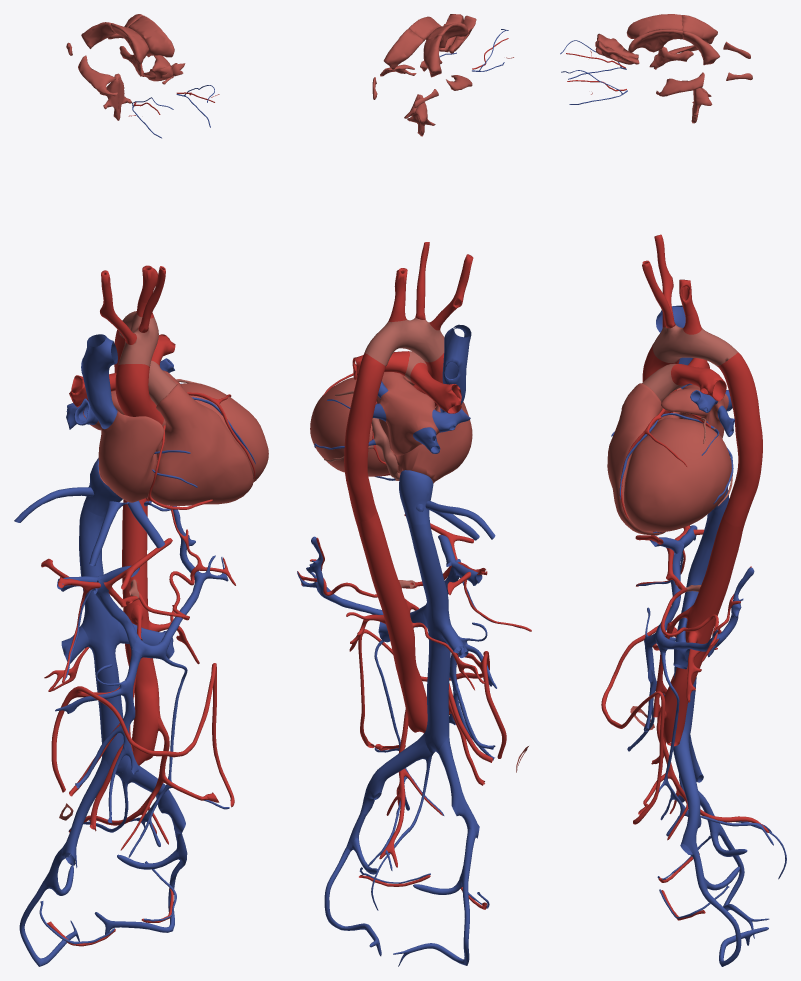
File: adult_female.cardiovascular.LOD1.glb
The picture shows the model from 3 angles, left to right: view 1: azimuth 30°, elevation 25°; view 2: azimuth 150°, elevation 25°; view 3: azimuth 270°, elevation 25°; orthographic projection. The views are drawn at different scales.
Parts seen in each view (by area): view 1: ADULT.FEMALE.CARDIOVASCULAR.RIGHT_VENTRICLE, ADULT.FEMALE.CARDIOVASCULAR.INFERIOR_VENA_CAVA_B, ADULT.FEMALE.CARDIOVASCULAR.DESCENDING_AORTA_B, ADULT.FEMALE.CARDIOVASCULAR.RIGHT_CARDIAC_ATRIUM, ADULT.FEMALE.CARDIOVASCULAR.SUPERIOR_VENA_CAVA, ADULT.FEMALE.CARDIOVASCULAR.LEFT_VENTRICLE, ADULT.FEMALE.CARDIOVASCULAR.MARGINAL_ARTERY_OF_DRUMMOND, ADULT.FEMALE.CARDIOVASCULAR.ASCENDING_AORTA, ADULT.FEMALE.CARDIOVASCULAR.SPLENIC_VEIN, ADULT.FEMALE.CARDIOVASCULAR.ANTERIOR_HORN_OF_LATERAL_VENTRIC (×2), ADULT.FEMALE.CARDIOVASCULAR.AORTIC_ARCH, ADULT.FEMALE.CARDIOVASCULAR.COMMON_ILIAC_VEIN.L (+16 smaller); view 2: ADULT.FEMALE.CARDIOVASCULAR.DESCENDING_AORTA_B, ADULT.FEMALE.CARDIOVASCULAR.INFERIOR_VENA_CAVA_B, ADULT.FEMALE.CARDIOVASCULAR.DESCENDING_AORTA_A, ADULT.FEMALE.CARDIOVASCULAR.LEFT_CARDIAC_ATRIUM, ADULT.FEMALE.CARDIOVASCULAR.LEFT_VENTRICLE, ADULT.FEMALE.CARDIOVASCULAR.RIGHT_CARDIAC_ATRIUM, ADULT.FEMALE.CARDIOVASCULAR.AORTIC_ARCH, ADULT.FEMALE.CARDIOVASCULAR.INFERIOR_VENA_CAVA_A, ADULT.FEMALE.CARDIOVASCULAR.COMMON_ILIAC_VEIN.L, ADULT.FEMALE.CARDIOVASCULAR.SUPERIOR_VENA_CAVA, ADULT.FEMALE.CARDIOVASCULAR.MARGINAL_ARTERY_OF_DRUMMOND, ADULT.FEMALE.CARDIOVASCULAR.PULMONARY_ARTERY.R (+11 smaller); view 3: ADULT.FEMALE.CARDIOVASCULAR.LEFT_VENTRICLE, ADULT.FEMALE.CARDIOVASCULAR.DESCENDING_AORTA_B, ADULT.FEMALE.CARDIOVASCULAR.DESCENDING_AORTA_A, ADULT.FEMALE.CARDIOVASCULAR.RIGHT_VENTRICLE, ADULT.FEMALE.CARDIOVASCULAR.AORTIC_ARCH, ADULT.FEMALE.CARDIOVASCULAR.INFERIOR_VENA_CAVA_B, ADULT.FEMALE.CARDIOVASCULAR.COMMON_ILIAC_VEIN.L, ADULT.FEMALE.CARDIOVASCULAR.ANTERIOR_HORN_OF_LATERAL_VENTRIC (×2), ADULT.FEMALE.CARDIOVASCULAR.MARGINAL_ARTERY_OF_DRUMMOND, ADULT.FEMALE.CARDIOVASCULAR.SPLENIC_VEIN, ADULT.FEMALE.CARDIOVASCULAR.LEFT_CARDIAC_ATRIUM, ADULT.FEMALE.CARDIOVASCULAR.PULMONARY_ARTERY.L (+13 smaller).
Part boxes in pixels (x1,y1,x2,y2): ADULT.FEMALE.CARDIOVASCULAR.RIGHT_VENTRICLE: [147, 384, 253, 505]; ADULT.FEMALE.CARDIOVASCULAR.INFERIOR_VENA_CAVA_B: [79, 504, 128, 775]; ADULT.FEMALE.CARDIOVASCULAR.DESCENDING_AORTA_B: [122, 498, 160, 765]; ADULT.FEMALE.CARDIOVASCULAR.RIGHT_CARDIAC_ATRIUM: [98, 410, 164, 502]; ADULT.FEMALE.CARDIOVASCULAR.SUPERIOR_VENA_CAVA: [81, 334, 117, 429]; ADULT.FEMALE.CARDIOVASCULAR.LEFT_VENTRICLE: [181, 383, 268, 482]; ADULT.FEMALE.CARDIOVASCULAR.MARGINAL_ARTERY_OF_DRUMMOND: [51, 663, 234, 807]; ADULT.FEMALE.CARDIOVASCULAR.ASCENDING_AORTA: [115, 364, 163, 424]; ADULT.FEMALE.CARDIOVASCULAR.SPLENIC_VEIN: [132, 506, 228, 659]; ADULT.FEMALE.CARDIOVASCULAR.ANTERIOR_HORN_OF_LATERAL_VENTRIC (×2): [110, 15, 174, 64]; ADULT.FEMALE.CARDIOVASCULAR.AORTIC_ARCH: [118, 311, 158, 366]; ADULT.FEMALE.CARDIOVASCULAR.COMMON_ILIAC_VEIN.L: [118, 757, 185, 834]; ADULT.FEMALE.CARDIOVASCULAR.DESCENDING_AORTA_B: [355, 510, 427, 732]; ADULT.FEMALE.CARDIOVASCULAR.INFERIOR_VENA_CAVA_B: [408, 523, 451, 753]; ADULT.FEMALE.CARDIOVASCULAR.DESCENDING_AORTA_A: [344, 352, 385, 521]; ADULT.FEMALE.CARDIOVASCULAR.LEFT_CARDIAC_ATRIUM: [376, 372, 439, 455]; ADULT.FEMALE.CARDIOVASCULAR.LEFT_VENTRICLE: [310, 377, 394, 476]; ADULT.FEMALE.CARDIOVASCULAR.RIGHT_CARDIAC_ATRIUM: [394, 402, 472, 483]; ADULT.FEMALE.CARDIOVASCULAR.AORTIC_ARCH: [364, 317, 444, 366]; ADULT.FEMALE.CARDIOVASCULAR.INFERIOR_VENA_CAVA_A: [399, 470, 433, 524]; ADULT.FEMALE.CARDIOVASCULAR.COMMON_ILIAC_VEIN.L: [360, 732, 430, 814]; ADULT.FEMALE.CARDIOVASCULAR.SUPERIOR_VENA_CAVA: [440, 324, 471, 412]; ADULT.FEMALE.CARDIOVASCULAR.MARGINAL_ARTERY_OF_DRUMMOND: [358, 629, 506, 758]; ADULT.FEMALE.CARDIOVASCULAR.PULMONARY_ARTERY.R: [410, 362, 461, 413]; ADULT.FEMALE.CARDIOVASCULAR.LEFT_VENTRICLE: [624, 418, 731, 531]; ADULT.FEMALE.CARDIOVASCULAR.DESCENDING_AORTA_B: [663, 515, 744, 746]; ADULT.FEMALE.CARDIOVASCULAR.DESCENDING_AORTA_A: [717, 352, 762, 526]; ADULT.FEMALE.CARDIOVASCULAR.RIGHT_VENTRICLE: [607, 383, 665, 535]; ADULT.FEMALE.CARDIOVASCULAR.AORTIC_ARCH: [652, 324, 737, 366]; ADULT.FEMALE.CARDIOVASCULAR.INFERIOR_VENA_CAVA_B: [674, 498, 729, 738]; ADULT.FEMALE.CARDIOVASCULAR.COMMON_ILIAC_VEIN.L: [673, 731, 701, 854]; ADULT.FEMALE.CARDIOVASCULAR.ANTERIOR_HORN_OF_LATERAL_VENTRIC (×2): [626, 14, 683, 53]; ADULT.FEMALE.CARDIOVASCULAR.MARGINAL_ARTERY_OF_DRUMMOND: [601, 625, 677, 824]; ADULT.FEMALE.CARDIOVASCULAR.SPLENIC_VEIN: [655, 567, 754, 657]; ADULT.FEMALE.CARDIOVASCULAR.LEFT_CARDIAC_ATRIUM: [661, 384, 728, 438]; ADULT.FEMALE.CARDIOVASCULAR.PULMONARY_ARTERY.L: [671, 364, 726, 401].
Bounding box in the file's own units: 0.1971 × 0.8285 × 0.1848.
